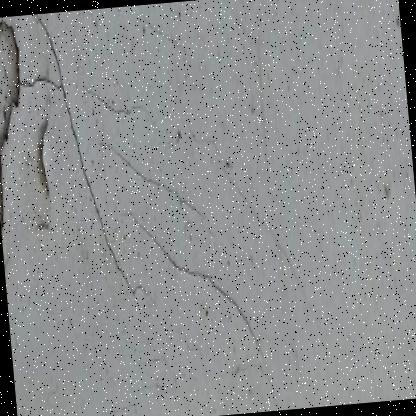Crack: (19, 0, 325, 415), (0, 15, 57, 415)
